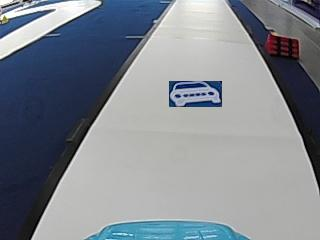bomb: (265, 33, 300, 58)
